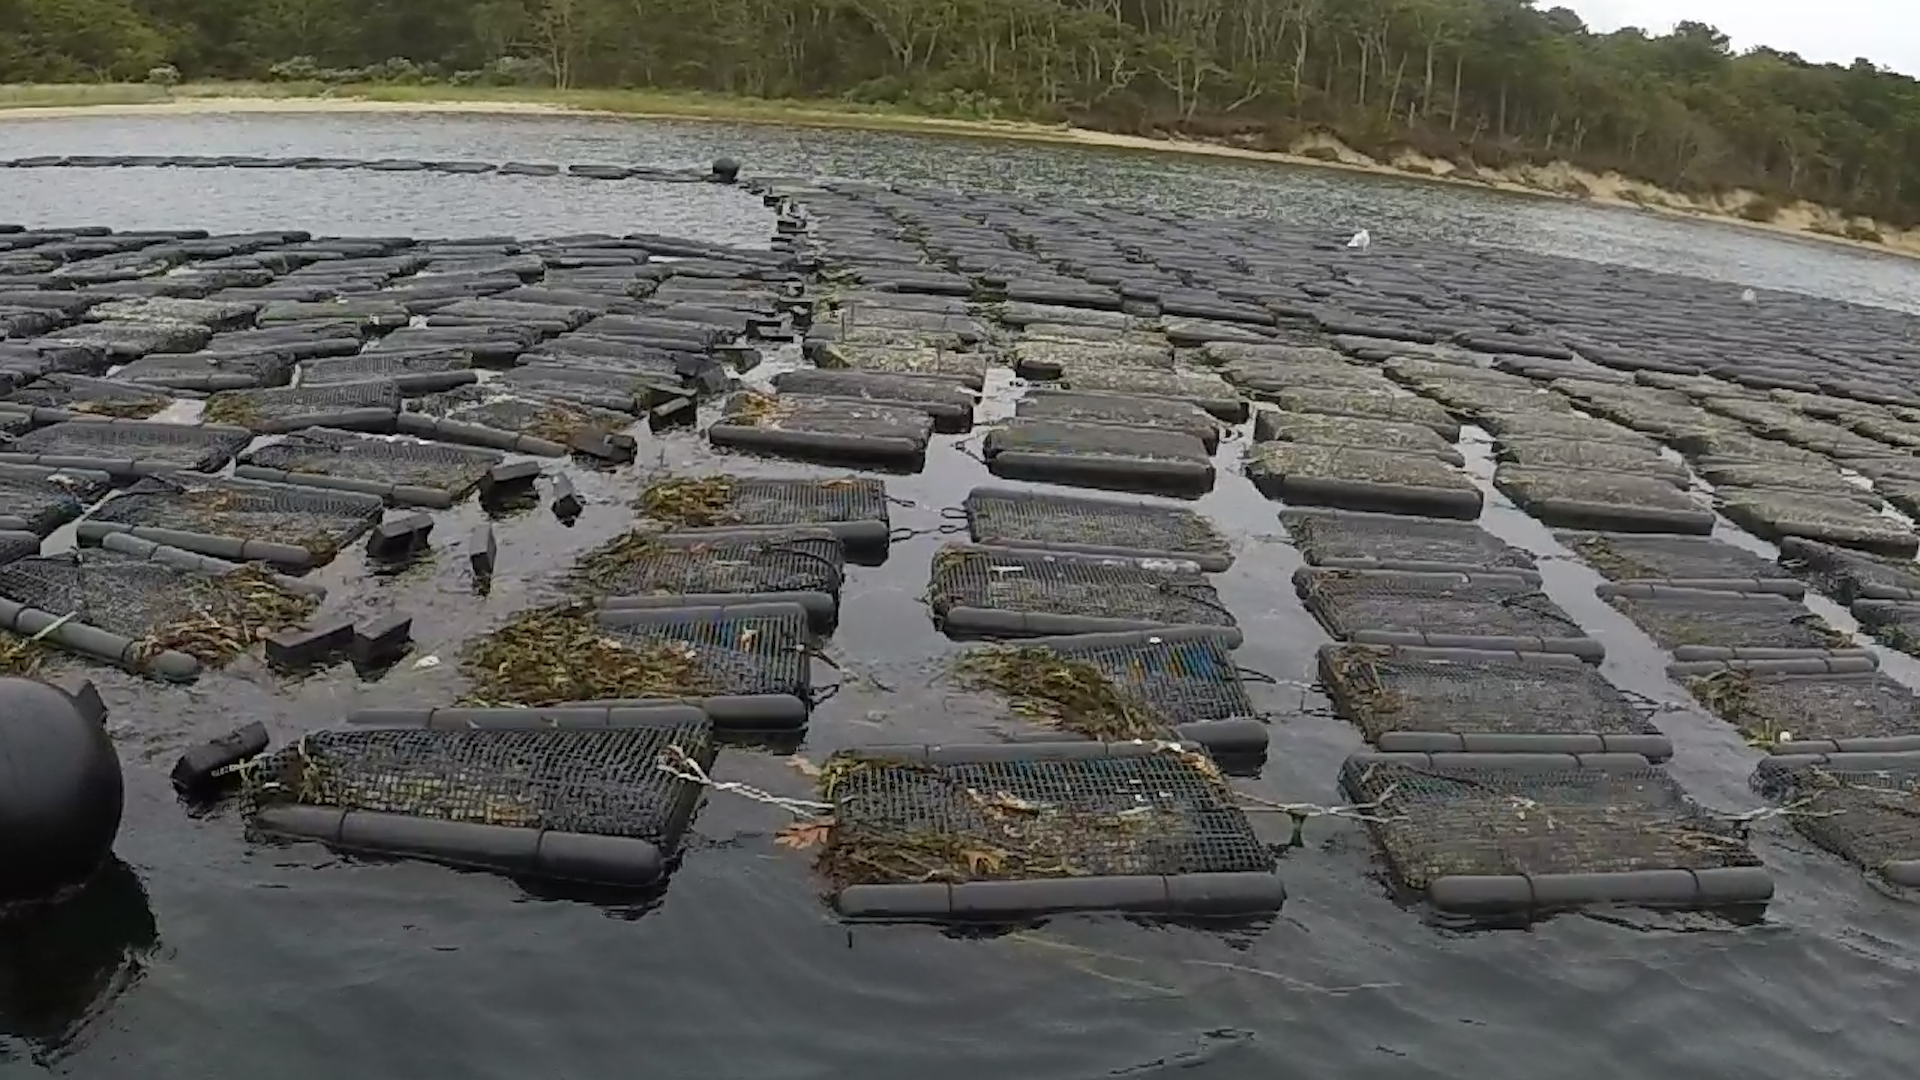bag: (233, 700, 716, 885), (818, 735, 1288, 920), (1324, 746, 1779, 920), (447, 601, 814, 713)
